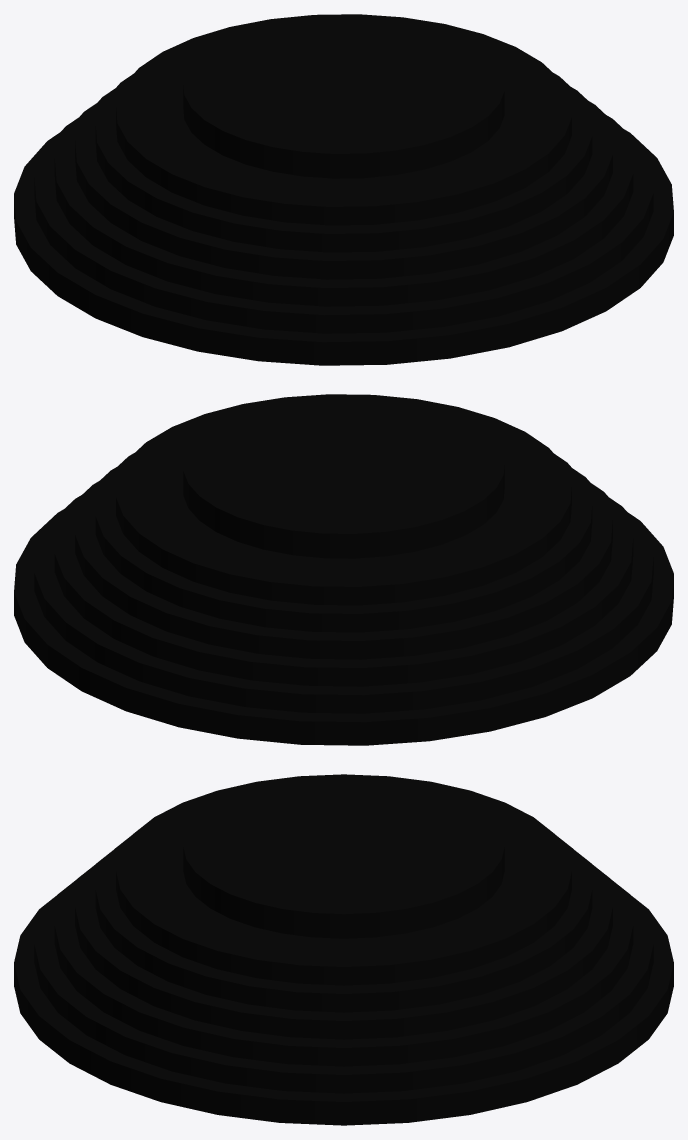
Rendered from dj_stages.glb.
3 views of the same model, one above another, from view 1: azimuth 30°, elevation 25°; view 2: azimuth 150°, elevation 25°; view 3: azimuth 270°, elevation 25° (orthographic).
Parts seen in each view (by area): view 1: DJ Stages; view 2: DJ Stages; view 3: DJ Stages.
Part boxes in pixels (x1,y1,x2,y2): DJ Stages: (14, 14, 673, 365); DJ Stages: (14, 394, 673, 745); DJ Stages: (14, 774, 673, 1125).
Size of what is drawn, in the model's own units: 8.88 by 2.08 by 8.88.
Materials: 1 (1 with a texture image).
